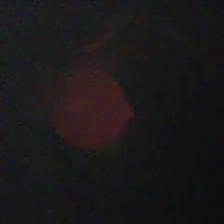fertile: (44, 60, 130, 153)
